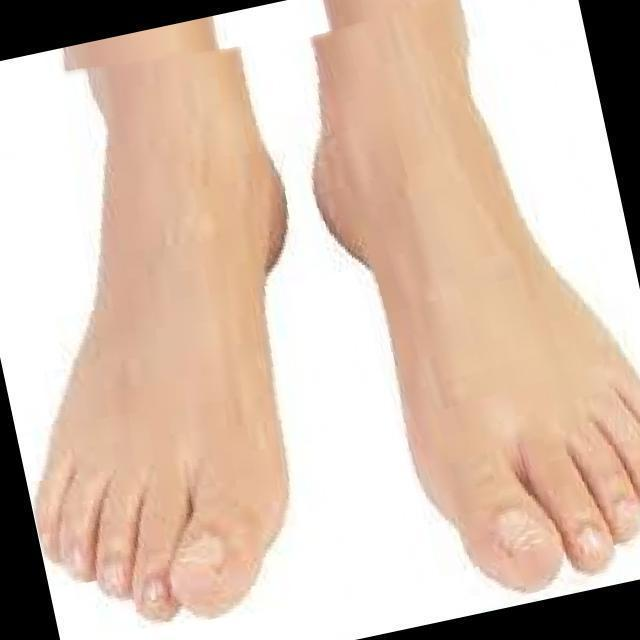No_Shoes: (300, 80, 640, 593), (22, 118, 280, 622)
